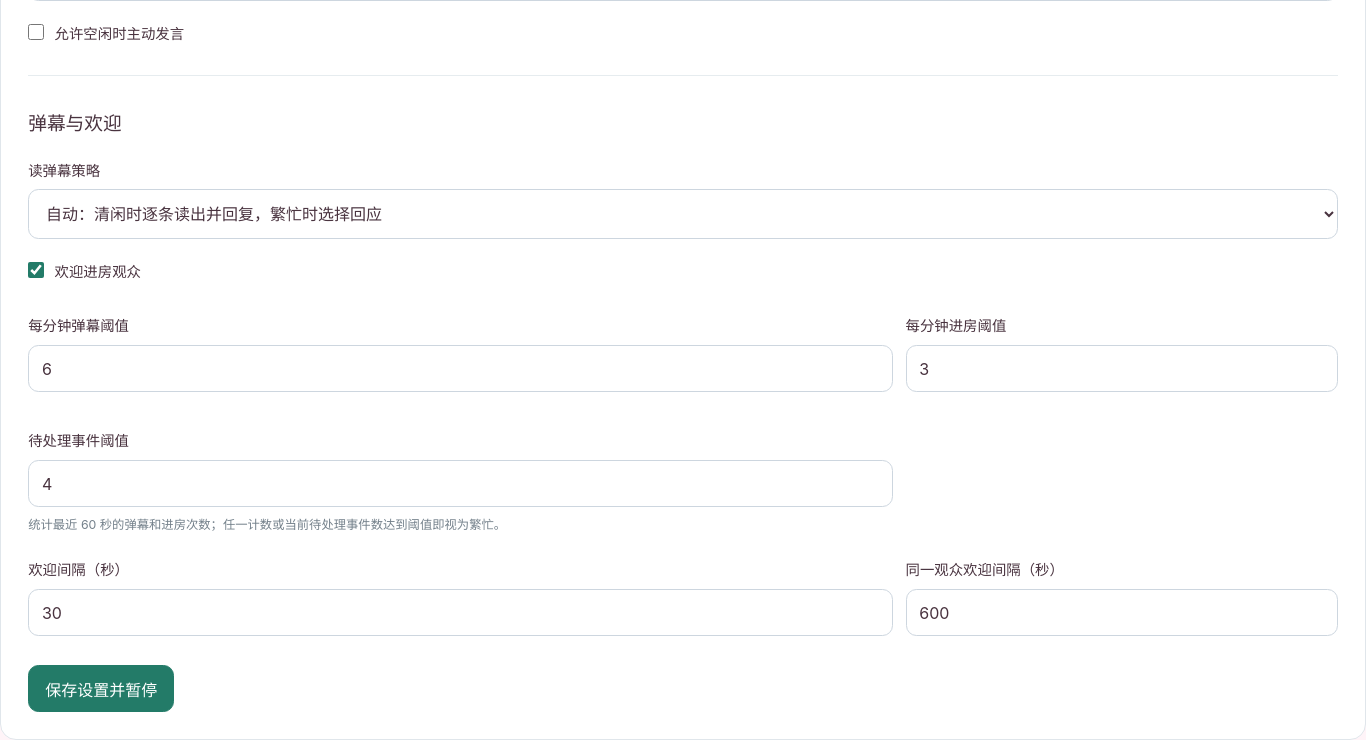
Test: 每分钟进房阈值 为 1.5 时保留草稿并拒绝保存
The image size is (1366, 740).
(page scrolled)
Step 1. Replace the text in the number field labelled "每分钟进房阈值" with "1.5" → (1122, 369), box [906,345,1338,392]
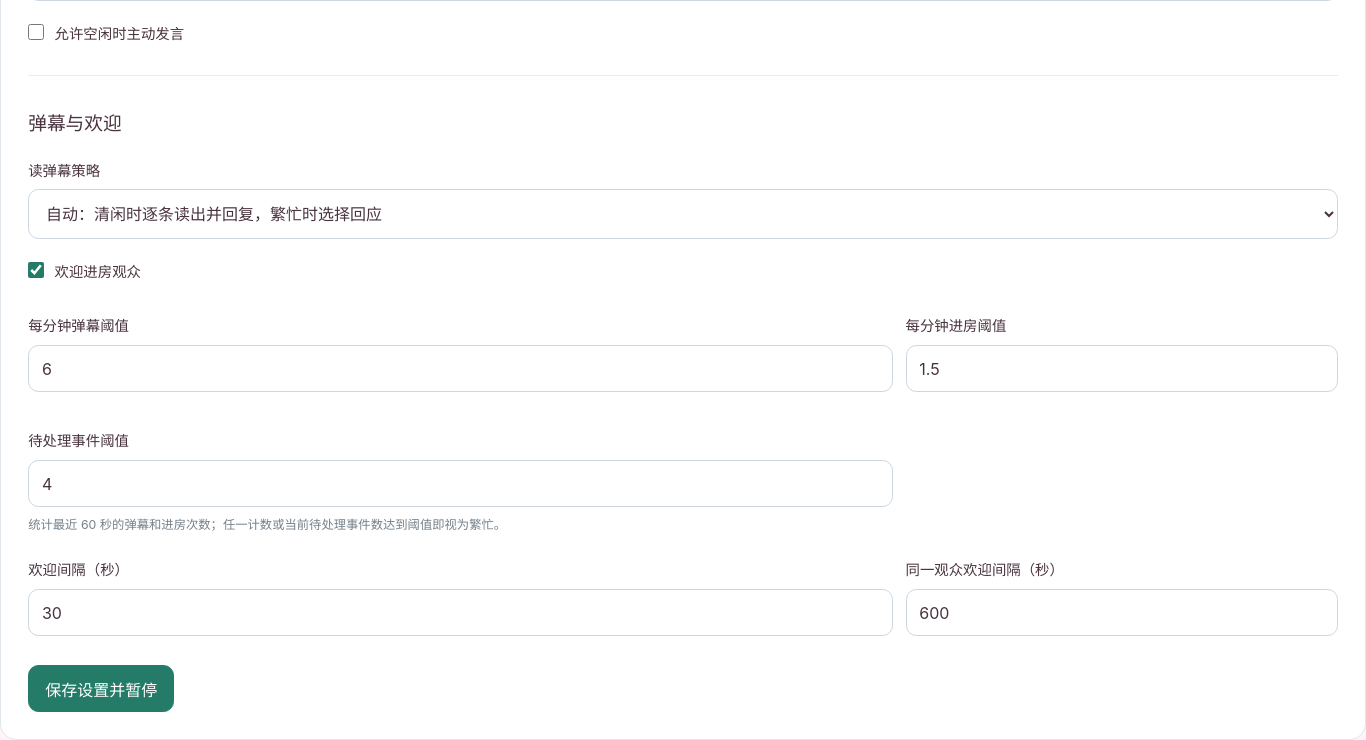
Step 2. Click the button "保存设置并暂停" → (101, 689), box [28,665,174,712]
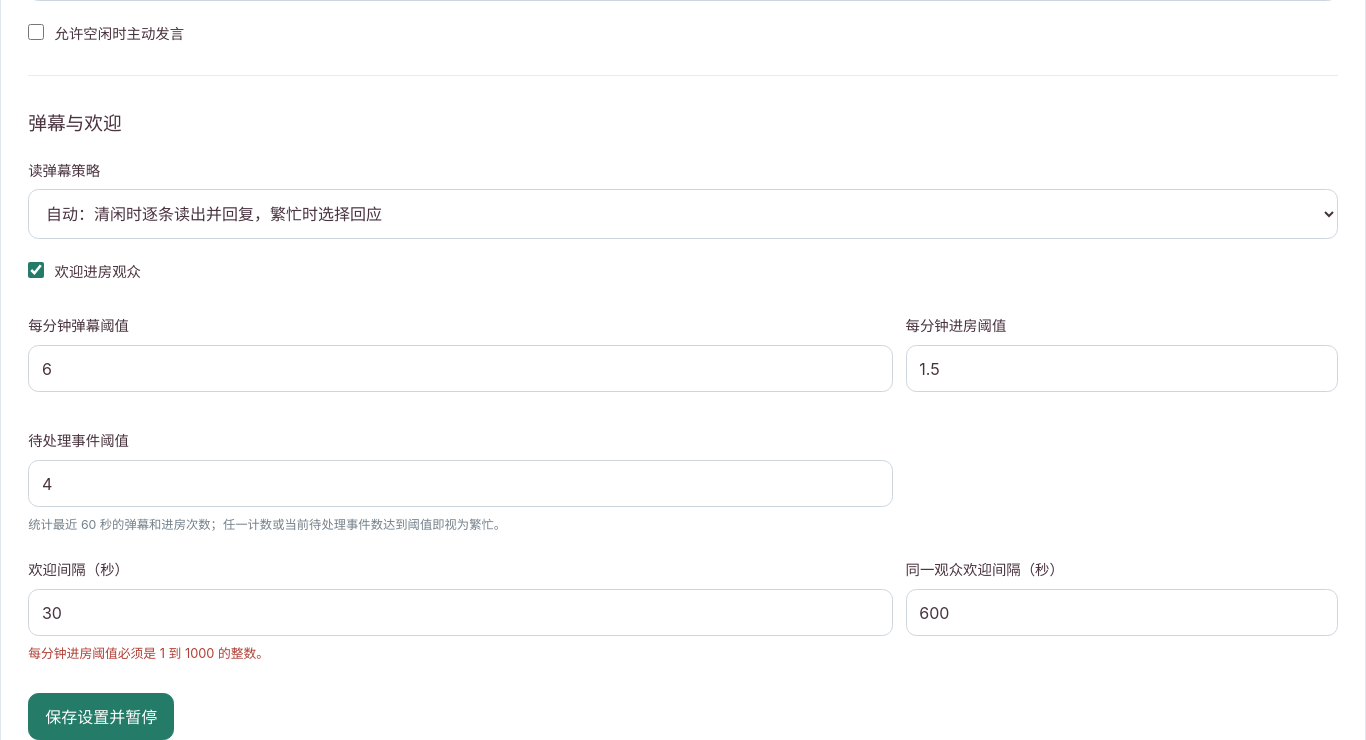
Check: the message is shown, box [28,646,269,661]
